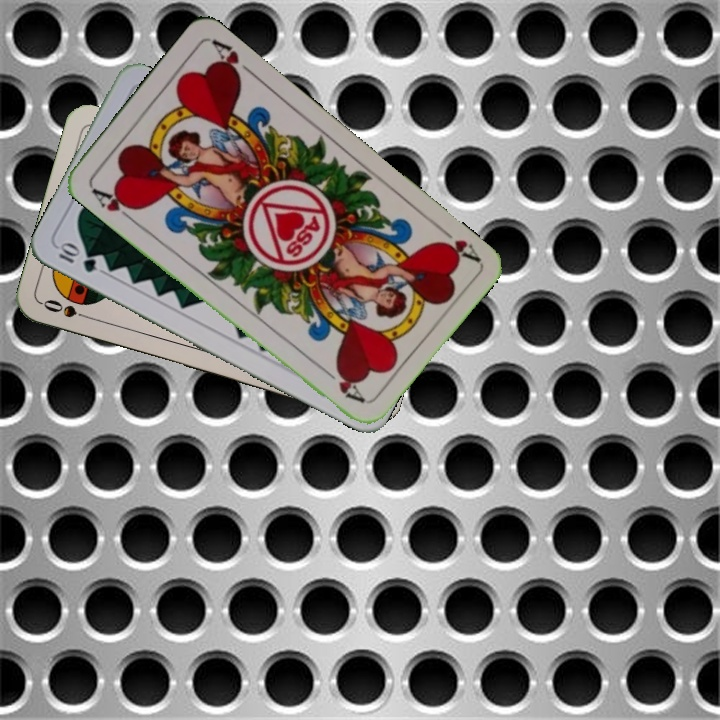G10: (54, 239, 99, 276)
HA: (87, 182, 142, 224), (432, 220, 482, 264)
SO: (39, 295, 96, 323)
